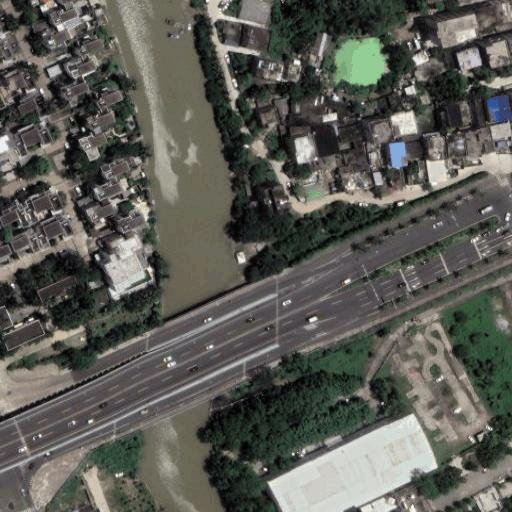building: (267, 413, 438, 512), (86, 157, 131, 238), (78, 91, 122, 162), (103, 235, 152, 298), (62, 39, 104, 100), (8, 121, 55, 159), (33, 213, 75, 250), (24, 188, 65, 224), (50, 9, 81, 54), (2, 318, 45, 350), (437, 14, 478, 46), (83, 467, 110, 512), (37, 275, 78, 304), (8, 228, 43, 261), (474, 486, 506, 512), (263, 185, 288, 216), (238, 0, 270, 23), (238, 24, 266, 50), (117, 214, 146, 239), (285, 133, 310, 162), (383, 107, 412, 132), (472, 7, 499, 33), (305, 127, 331, 154), (445, 101, 472, 127), (477, 34, 503, 61), (83, 281, 110, 307), (465, 130, 493, 155), (256, 60, 285, 82), (363, 114, 388, 139), (343, 139, 367, 165), (41, 58, 67, 82), (455, 47, 482, 70), (486, 96, 510, 121), (444, 133, 467, 159), (220, 20, 242, 47), (0, 123, 14, 161), (427, 135, 447, 160), (312, 31, 330, 57), (471, 95, 486, 126), (338, 124, 361, 144), (427, 158, 446, 182), (390, 143, 408, 167), (406, 50, 429, 67), (490, 123, 512, 140), (0, 304, 14, 330), (405, 141, 424, 160), (259, 108, 278, 125), (38, 0, 58, 16), (0, 241, 12, 267), (275, 97, 290, 117), (283, 64, 298, 83), (64, 502, 92, 512), (31, 20, 49, 34), (326, 98, 344, 112), (503, 31, 512, 59), (289, 126, 311, 136), (77, 195, 94, 207), (405, 83, 419, 96), (372, 171, 381, 185), (292, 99, 300, 114), (440, 112, 447, 128)
